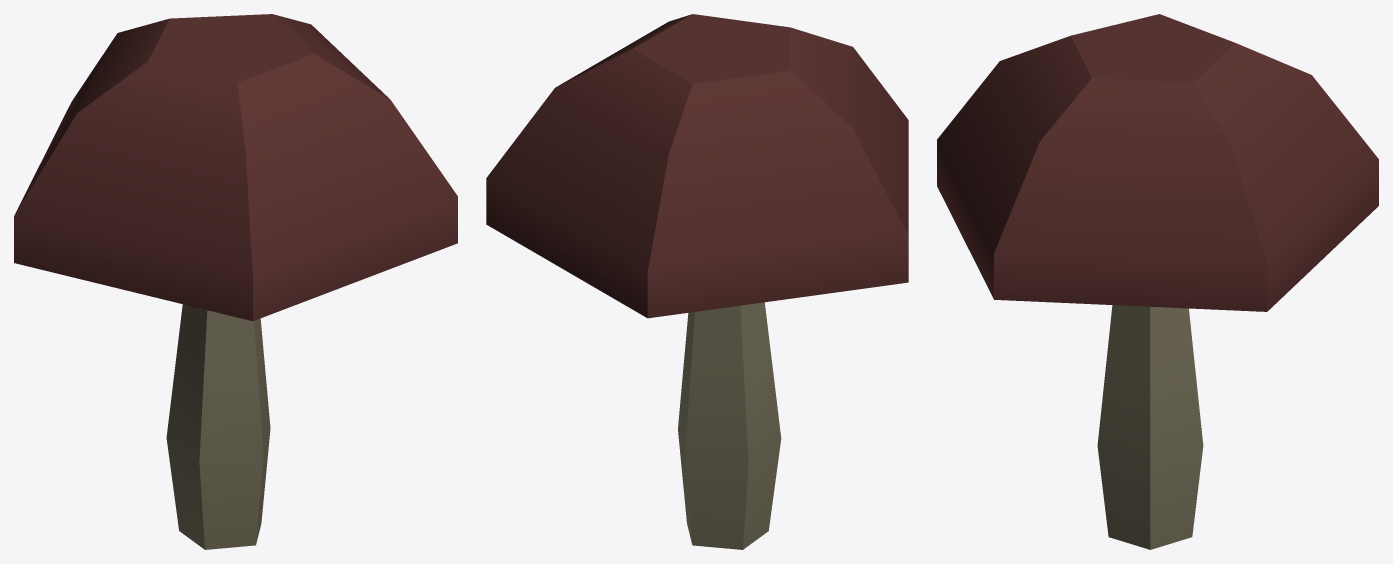
The model's file is SmallRedMushroom.fbx.
3 views of the same model, side by side, from view 1: azimuth 30°, elevation 25°; view 2: azimuth 150°, elevation 25°; view 3: azimuth 270°, elevation 25° (orthographic).
Parts seen in each view (by area): view 1: RedMushroom2; view 2: RedMushroom2; view 3: RedMushroom2.
Part boxes in pixels (x1,y1,x2,y2): RedMushroom2: [14, 14, 457, 549]; RedMushroom2: [486, 14, 908, 549]; RedMushroom2: [937, 14, 1378, 549].
Bounding box in the file's own units: 6.27 × 7.69 × 6.37.
